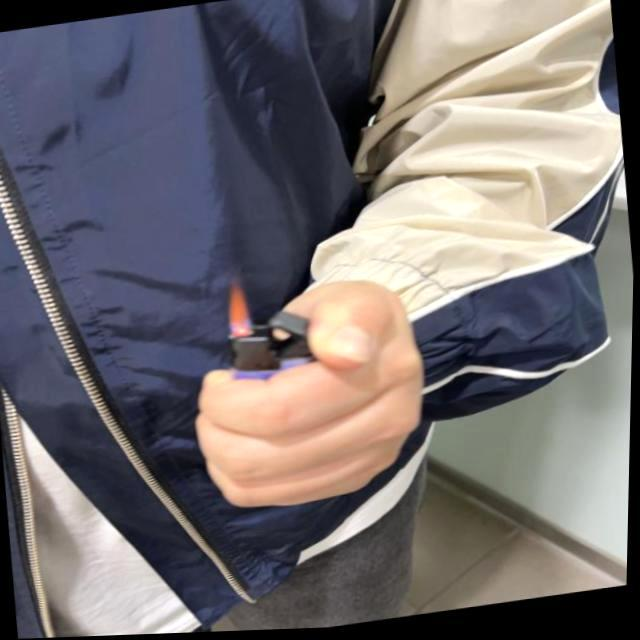fire: (226, 284, 258, 340)
